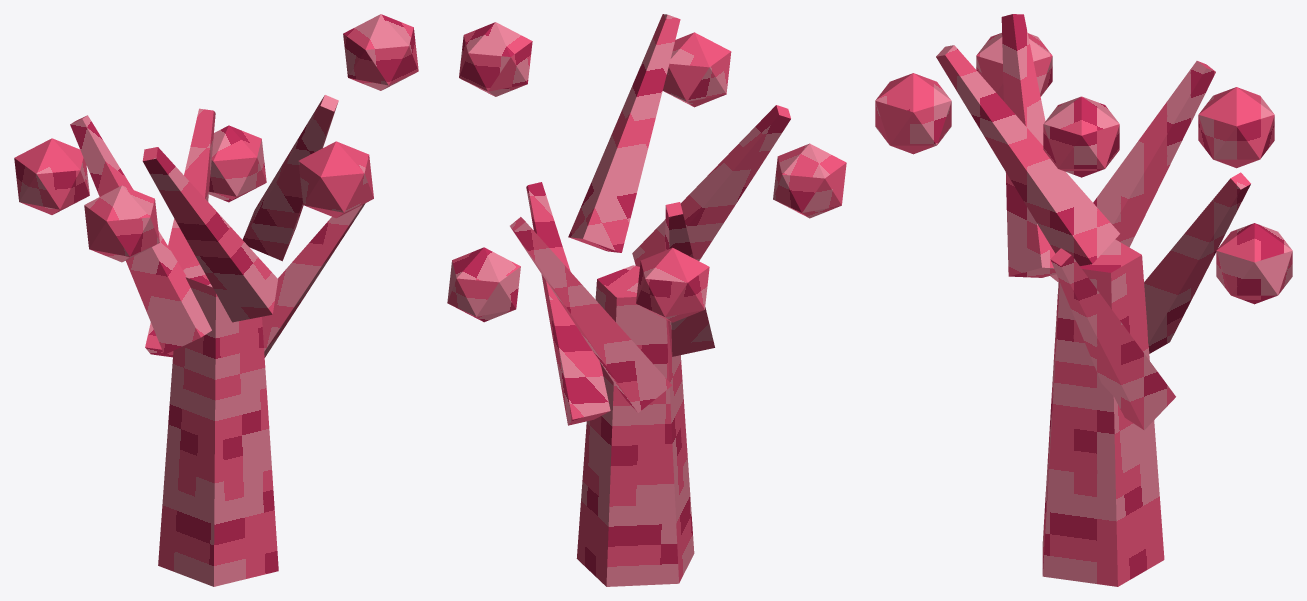
Rendered from a54_coral_3.glb.
3 views of the same model, side by side, from view 1: azimuth 30°, elevation 25°; view 2: azimuth 150°, elevation 25°; view 3: azimuth 270°, elevation 25° (orthographic). The views are drawn at different scales.
Parts seen in each view (by area): view 1: a54_coral_3; view 2: a54_coral_3; view 3: a54_coral_3.
Part boxes in pixels (box(x1,y1,x2,y2)): a54_coral_3: box(14, 14, 418, 586); a54_coral_3: box(447, 14, 846, 586); a54_coral_3: box(875, 14, 1292, 586).
Size of the model in its own units: 1.16 by 1.6 by 1.12.
1 material, 1 textured.
